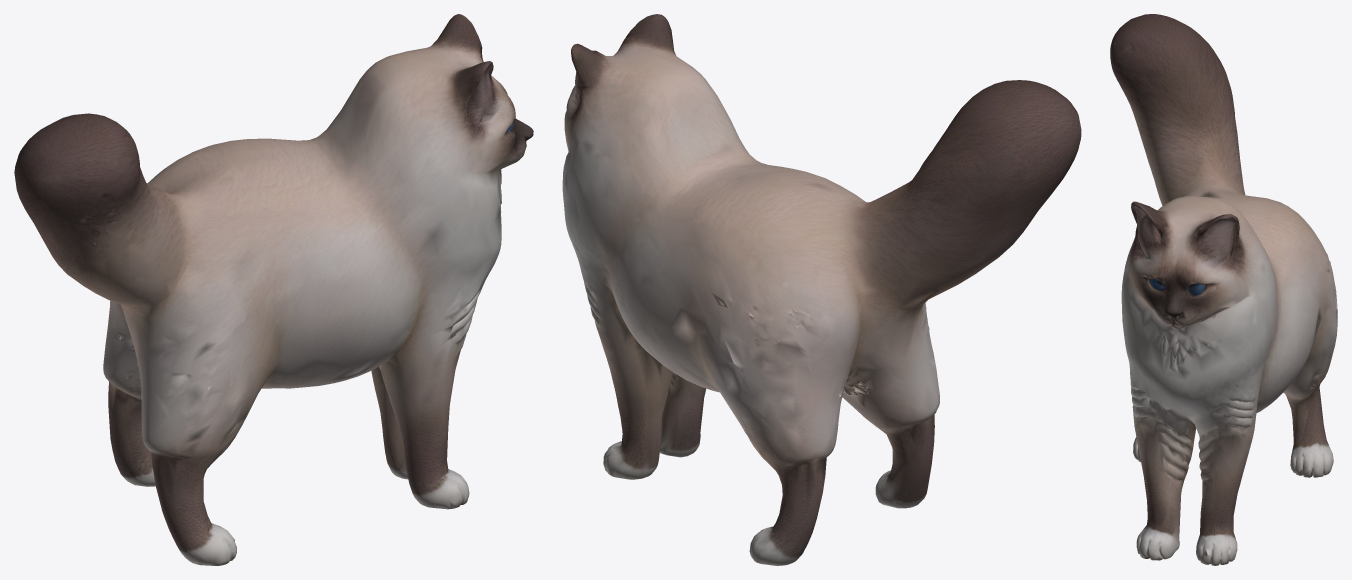
Rendered from CHOUPETCAT.glb.
The picture shows the model from 3 angles, left to right: view 1: azimuth 30°, elevation 25°; view 2: azimuth 150°, elevation 25°; view 3: azimuth 270°, elevation 25°; orthographic projection. The views are drawn at different scales.
Visible parts, largest first — view 1: material; view 2: material; view 3: material.
Boxes of the visible parts, x1=… form: material: x1=14, y1=14, x2=533, y2=565; material: x1=562, y1=14, x2=1081, y2=565; material: x1=1110, y1=14, x2=1337, y2=565.
Size of the model in its own units: 1.16 by 0.9998 by 0.5328.
1 material, 1 textured.
